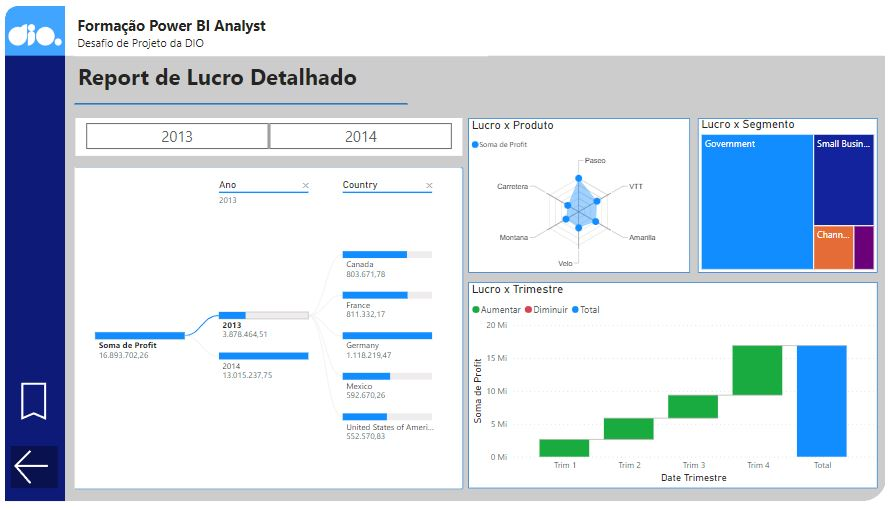

The dashboard page shown, as its layout file describes it:
{"tool":"powerbi","page":{"name":"Página 2","canvas":[1280,720],"ordinal":1},"visuals":[{"type":"group","id":"g1","title":"Fundo","box":[0,0,1281.2,720.3],"z":0},{"type":"shape","box":[0,0,87.5,719.6],"z":0,"group":"g2"},{"type":"shape","box":[86.8,0,1192.8,72.5],"z":0,"group":"g3"},{"type":"shape","box":[0,1.6,1281.2,718.8],"z":0,"group":"g1"},{"type":"shape","box":[101.4,120.4,483.9,42.9],"z":0,"group":"g5"},{"type":"shape","box":[102.3,163.3,562.5,55.1],"z":0,"group":"g4"},{"type":"group","id":"g2","title":"Lateral Esquerda","box":[0,0,87.5,720.3],"z":1000,"group":"g1"},{"type":"shape","box":[0,0,87,72.5],"z":1000,"group":"g2"},{"type":"textbox","box":[100,8.9,601.8,64.3],"z":1000,"group":"g3"},{"type":"textbox","box":[101.4,74.1,453.6,64.3],"z":1000,"group":"g5"},{"type":"treemap","title":"Lucro x Segmento","fields":{"Values":["Sum(financials.Profit)"],"Group":["financials.Segment"]},"box":[1006.7,161.7,261.7,226.7],"z":1000},{"type":"slicer","fields":{"Values":["financials.Date.Variation.Hierarquia de datas.Ano"]},"box":[91.8,163.4,581.6,45.7],"z":1000,"group":"g4"},{"type":"group","id":"g3","title":"Top","box":[86.8,0,1192.8,73.2],"z":2000,"group":"g1"},{"type":"image","title":"Logo DIO","box":[0,16.1,87.5,50],"z":2000,"group":"g2"},{"type":"waterfallChart","title":"Lucro x Trimestre","fields":{"Category":["financials.Date.Variation.Hierarquia de datas.Trimestre"],"Y":["Sum(financials.Profit)"]},"box":[673.3,401.7,595,296.7],"z":2000},{"type":"group","id":"g4","title":"Segmentação","box":[91.8,163.3,581.6,55.1],"z":3000,"group":"g1"},{"type":"decompositionTreeVisual","fields":{"Analyze":["Sum(financials.Profit)"],"ExplainBy":["financials.Date.Variation.Hierarquia de datas.Ano","financials.Country"]},"box":[101.7,235,561.7,466.7],"z":3000},{"type":"group","id":"g5","title":"Title report","box":[101.4,74.1,483.9,89.2],"z":4000,"group":"g1"},{"type":"RadarChart1446119667547","title":"Lucro x Produto","fields":{"Category":["financials.Product"],"Y":["Sum(financials.Profit)"]},"box":[673.3,163.3,321.7,226.7],"z":4000},{"type":"shape","box":[102,234.7,563.3,467.3],"z":5000,"group":"g1"},{"type":"actionButton","box":[8.3,640,68.3,61.7],"z":5000,"group":"g6"},{"type":"shape","box":[673.3,401.7,595,300],"z":6000,"group":"g1"},{"type":"actionButton","box":[8.3,508.3,68.3,131.7],"z":6000,"group":"g6"},{"type":"group","id":"g6","title":"Botões","box":[8.3,508.3,68.3,193.3],"z":6001},{"type":"shape","box":[673.5,163.3,322.4,224.5],"z":7000,"group":"g1"},{"type":"shape","box":[1006.7,163.3,261.7,225],"z":8000,"group":"g1"}]}

Visuals, with their boxes on the page's 1280x720 design canvas (x1, y1, x2, y2). These are canvas units, not pixel positions in the 893x510 screenshot, which may show the page scaled, cropped or inside an application window:
"Fundo" group: 0:0:1281:720
shape: 0:0:88:720
shape: 87:0:1280:72
shape: 0:2:1281:720
shape: 101:120:585:163
shape: 102:163:665:218
"Lateral Esquerda" group: 0:0:88:720
shape: 0:0:87:72
textbox: 100:9:702:73
textbox: 101:74:555:138
"Lucro x Segmento" treemap: 1007:162:1268:388
slicer - financials.Date.Variation.Hierarquia de datas.Ano: 92:163:673:209
"Top" group: 87:0:1280:73
"Logo DIO" image: 0:16:88:66
"Lucro x Trimestre" waterfallChart: 673:402:1268:698
"Segmentação" group: 92:163:673:218
decompositionTreeVisual - Sum(financials.Profit) x financials.Date.Variation.Hierarquia de datas.Ano: 102:235:663:702
"Title report" group: 101:74:585:163
"Lucro x Produto" RadarChart1446119667547: 673:163:995:390
shape: 102:235:665:702
actionButton: 8:640:77:702
shape: 673:402:1268:702
actionButton: 8:508:77:640
"Botões" group: 8:508:77:702
shape: 674:163:996:388
shape: 1007:163:1268:388
